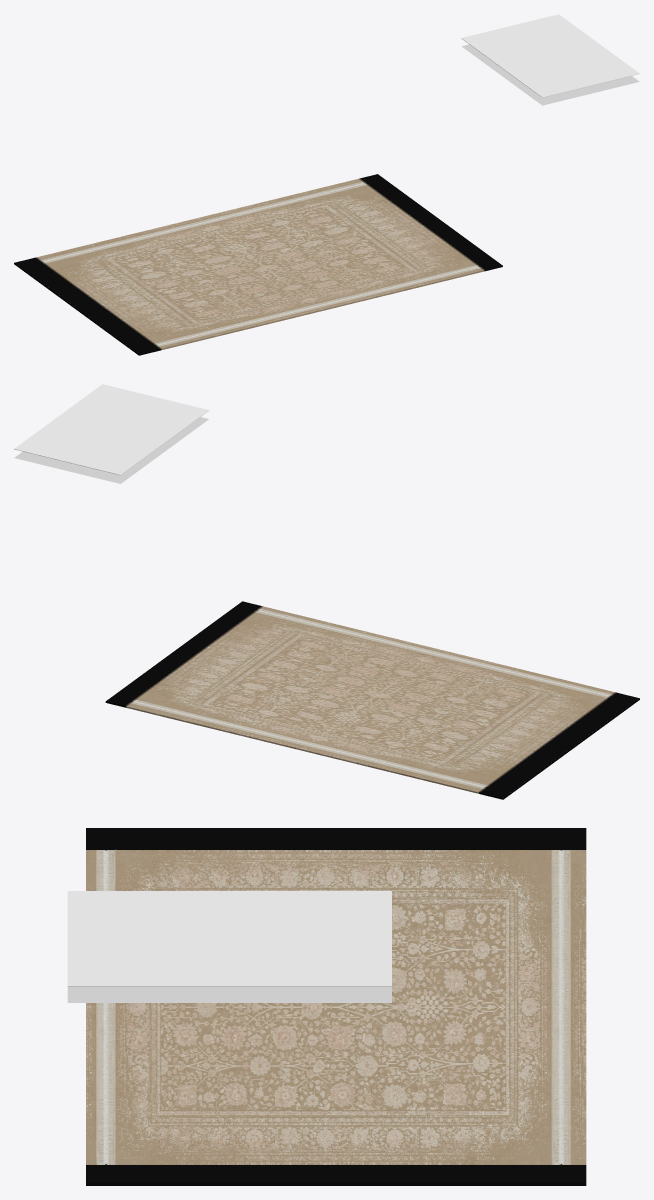
File: rug-120x180.glb
3 views of the same model, one above another, from view 1: azimuth 30°, elevation 25°; view 2: azimuth 150°, elevation 25°; view 3: azimuth 270°, elevation 25° (orthographic). The views are drawn at different scales.
Parts seen in each view (by area): view 1: Plane.001, Baked, Plane; view 2: Plane.001, Baked, Plane; view 3: Plane.001, Baked, Plane.
Boxes of the visible parts, x1,y1,x2,y2 form: Plane.001: [14, 174, 502, 355]; Baked: [461, 14, 639, 97]; Plane: [462, 44, 639, 105]; Plane.001: [105, 601, 639, 799]; Baked: [14, 384, 209, 475]; Plane: [14, 417, 208, 483]; Plane.001: [86, 828, 586, 1185]; Baked: [67, 891, 391, 986]; Plane: [67, 987, 391, 1002].
Size of the model in its own units: 6.1 by 1.93 by 2.76.
3 materials, 1 textured.
